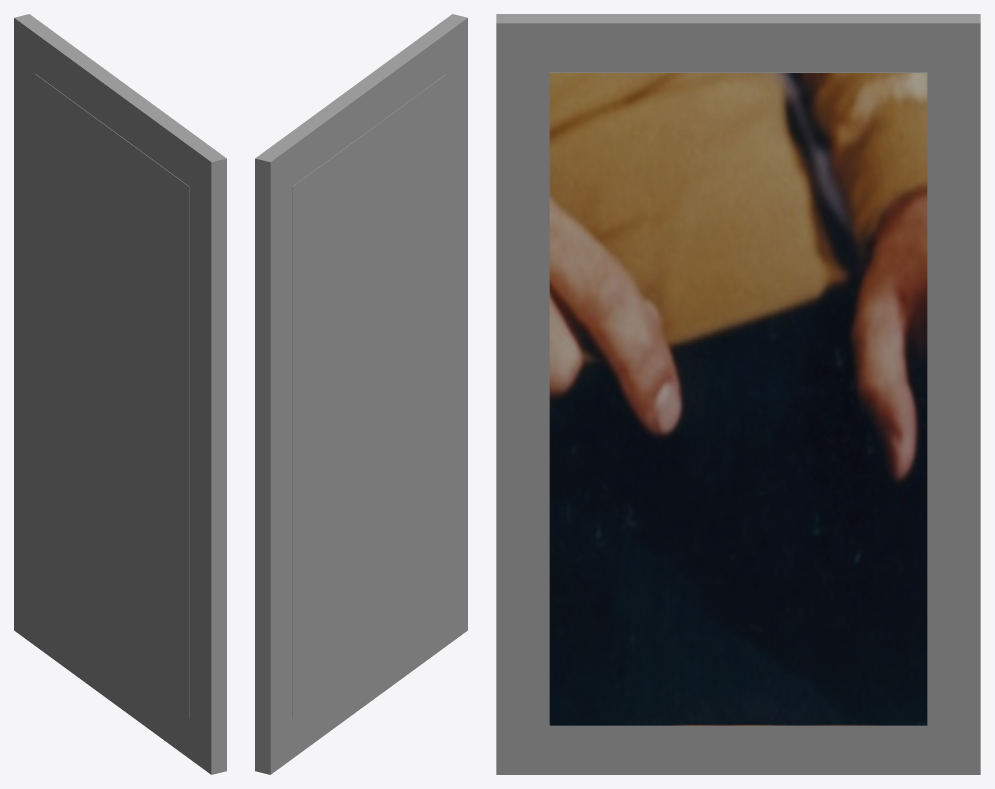
Rendered from shatman.fbx.
The picture shows the model from 3 angles, left to right: view 1: azimuth 30°, elevation 25°; view 2: azimuth 150°, elevation 25°; view 3: azimuth 270°, elevation 25°; orthographic projection. The views are drawn at different scales.
Visible parts, largest first — view 1: pCube4, pCube3; view 2: pCube4, pCube3; view 3: pCube4, pCube3.
Part boxes in pixels (x1,y1,x2,y2): pCube4: (35, 74, 189, 718); pCube3: (14, 14, 226, 774); pCube4: (292, 74, 446, 718); pCube3: (255, 14, 467, 774); pCube4: (549, 72, 927, 725); pCube3: (496, 14, 980, 774).
Bounding box in the file's own units: 0.3229 × 11.49 × 6.71.
2 materials, 1 textured.
